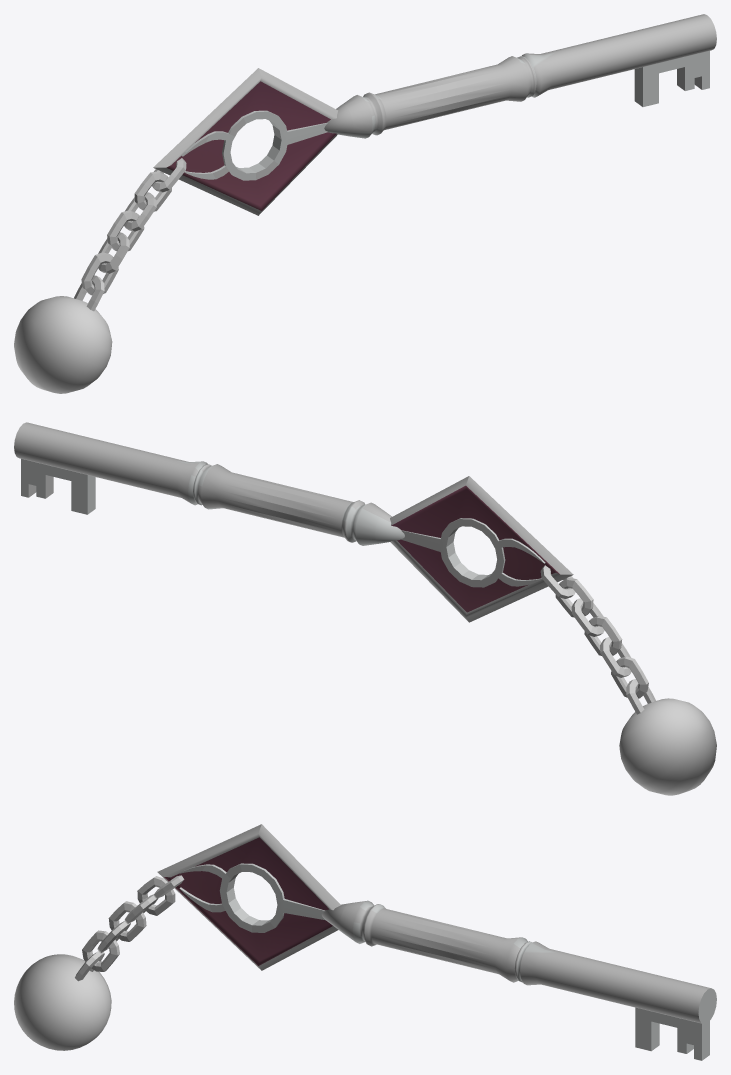
File: key_mesh.fbx
The picture shows the model from 3 angles, top to bottom: view 1: azimuth 30°, elevation 25°; view 2: azimuth 150°, elevation 25°; view 3: azimuth 330°, elevation 25°; orthographic projection.
Visible parts, largest first — view 1: fourkets3, fourkets2, pSphere4, chainstemplate1_pTorus1; view 2: fourkets3, fourkets2, pSphere4, chainstemplate1_pTorus1; view 3: fourkets3, fourkets2, pSphere4, chainstemplate1_pTorus1.
Part boxes in pixels (x1,y1,x2,y2): fourkets3: (153,68,453,215); fourkets2: (433,14,716,115); pSphere4: (14,296,112,393); chainstemplate1_pTorus1: (74,158,186,311); fourkets3: (275,476,573,622); fourkets2: (14,422,292,522); pSphere4: (619,698,716,795); chainstemplate1_pTorus1: (540,565,655,714); fourkets3: (157,824,441,970); fourkets2: (430,922,716,1060); pSphere4: (14,954,111,1050); chainstemplate1_pTorus1: (75,875,184,981).
Bounding box in the file's own units: 1.58 × 0.5932 × 0.1942.
